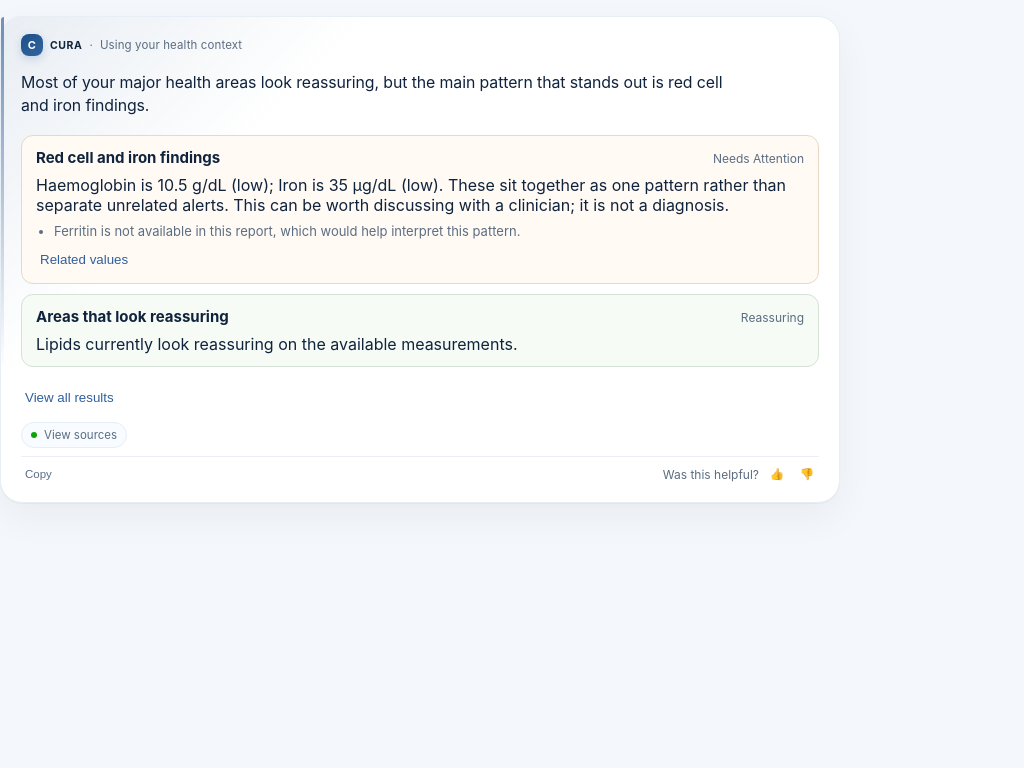
Test: MessageList narrative summary › renders theme cards and keeps the raw table behind View all results
Expected: the number of elements with test id "health-theme" is 2, [21,135,819,284]; [21,294,819,367]
Expected: the heading "Red cell and iron findings" is shown, [36,148,220,167]
Click the button "View all results" at (69, 397), box [21,385,118,409]
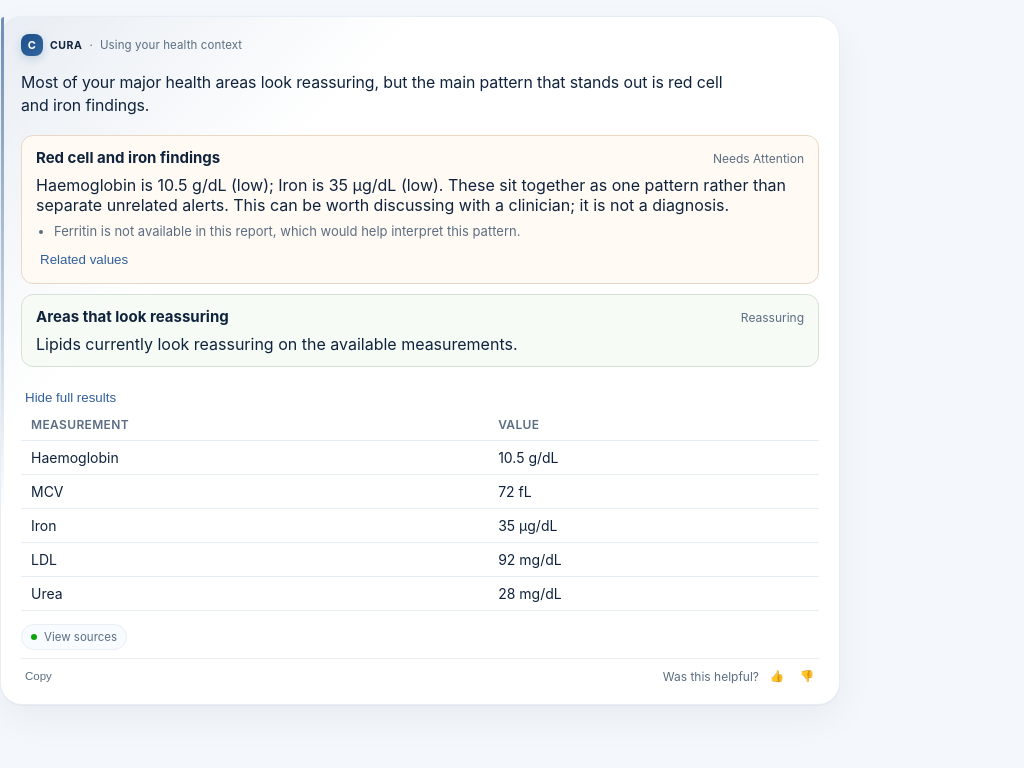
Now the text "Urea" is shown, box [21,576,488,610]
Now the column heading "Measurement" is shown, box [21,409,488,440]
